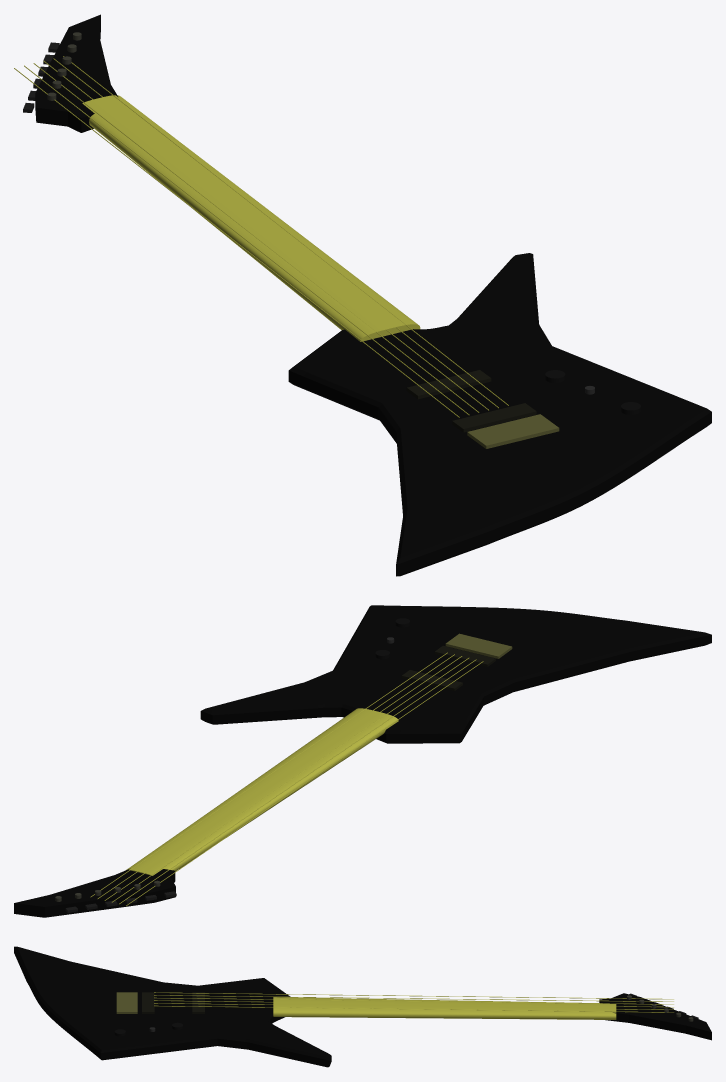
3 renders of one model, top to bottom at view 1: azimuth 30°, elevation 25°; view 2: azimuth 150°, elevation 25°; view 3: azimuth 270°, elevation 25°, orthographic. The views are drawn at different scales.
Visible parts, largest first — view 1: body, neck, headstock, bridge, pickup.001, pickup.002; view 2: body, neck, headstock, bridge, pickup.001, pickup.002, string.002, string.001; view 3: body, neck, headstock, string.001, string.002, string.006, bridge, string.003, pickup.002, pickup.001.
Boxes of the visible parts, x1,y1,x2,y2 form: body: (288,253,711,576); neck: (82,95,420,341); headstock: (35,14,118,132); bridge: (467,414,559,448); pickup.001: (452,403,536,432); pickup.002: (406,370,491,399); body: (200,605,711,743); neck: (126,708,398,875); headstock: (14,868,175,917); bridge: (445,633,512,658); pickup.001: (434,645,495,666); pickup.002: (401,670,462,690); string.002: (119,659,476,904); string.001: (126,661,483,905); body: (14,946,331,1067); neck: (273,997,616,1019); headstock: (599,993,711,1040); string.001: (154,992,673,999); string.002: (154,995,673,1001); string.006: (154,1005,673,1012); bridge: (116,992,137,1013); string.003: (154,997,673,1004); pickup.002: (192,992,204,1013); pickup.001: (142,992,154,1013).
Size of the model in its own units: 0.386 by 0.0245 by 0.998.
